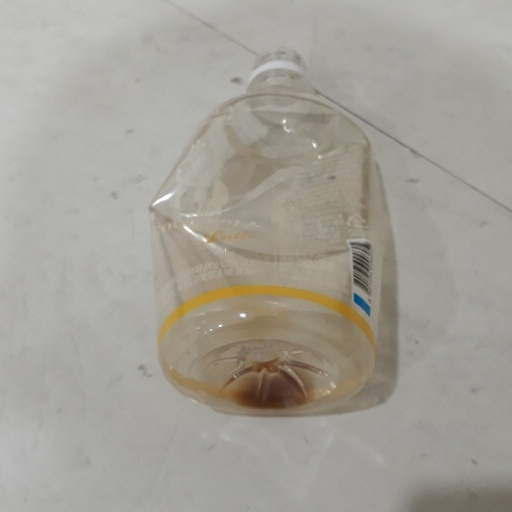Plastic_0: (143, 47, 384, 412)
